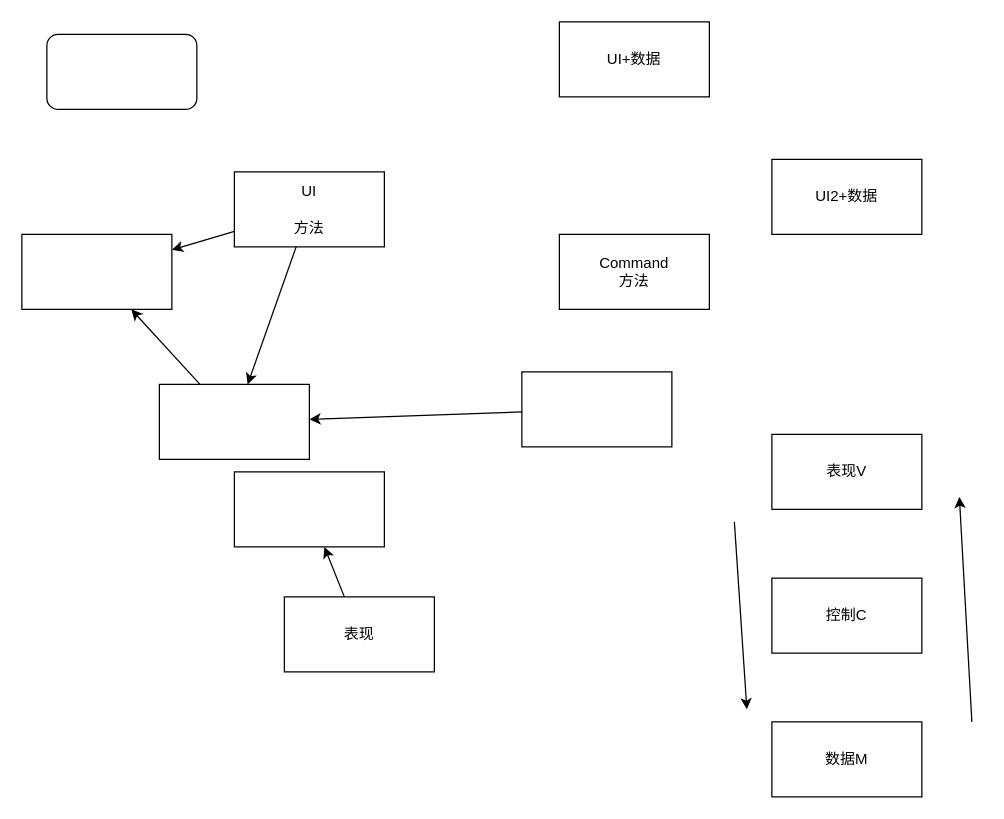
This 1004x819 diagram has some shape labels left out. The centre of each missing label's shape, as x and y in pixels:
"UI2" belongs at (121,71).
"事件中心 委托" belongs at (96,271).
"数据 委托" belongs at (233,421).
